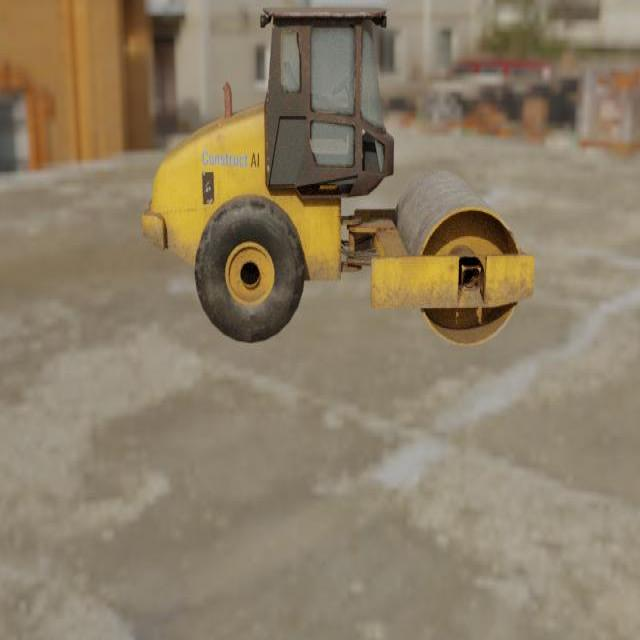Roller: (141, 6, 535, 346)
